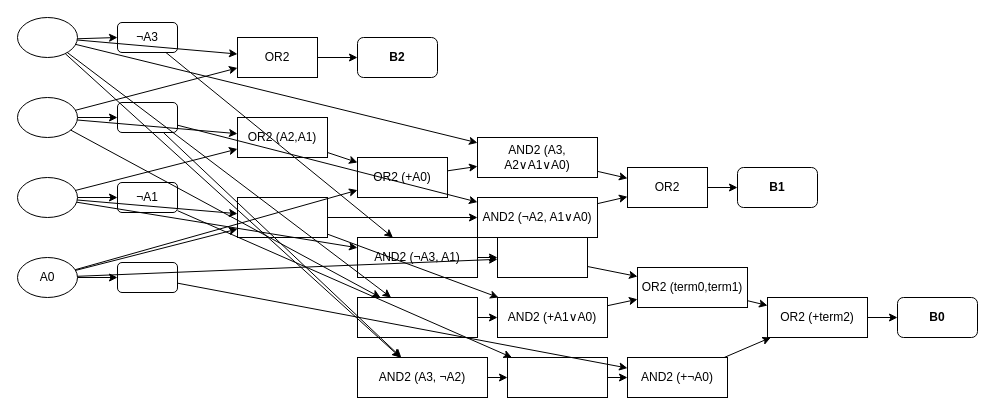
The diagram is 995 pixels wide and 415 high, and some of its shapes have lost their labels. Each missing label, with the centre of its shape:
"A1" goes at point 47,197.
"A2" goes at point 47,117.
"A3" goes at point 47,37.
"AND2 (+A0)" goes at point 542,257.
"AND2 (+¬A1)" goes at point 557,377.
"AND2 (A3, A2)" goes at point 417,317.
"OR2 (A1,A0)" goes at point 282,217.
"¬A0" goes at point 147,277.
"¬A2" goes at point 147,117.
